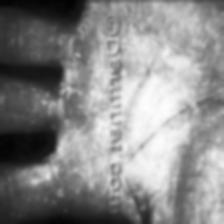Non-Cancerous Skin Condition: (0, 0, 115, 129), (0, 124, 88, 221), (124, 0, 184, 97), (152, 138, 190, 220)
